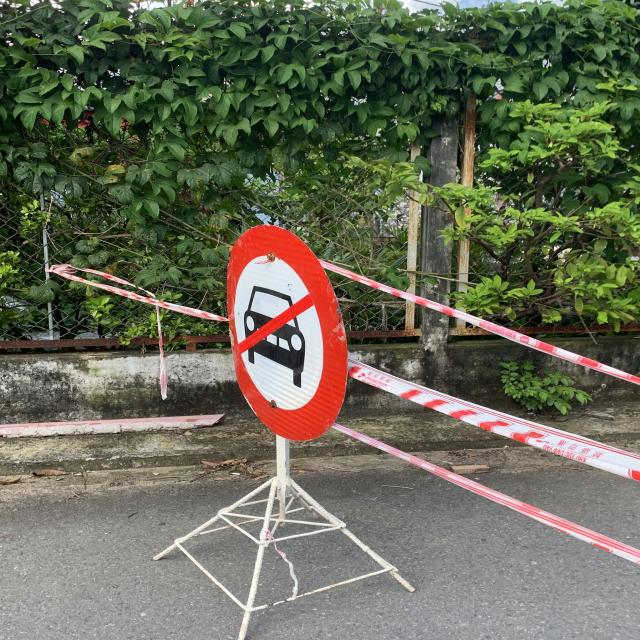Cam_O_To: (226, 221, 352, 445)
